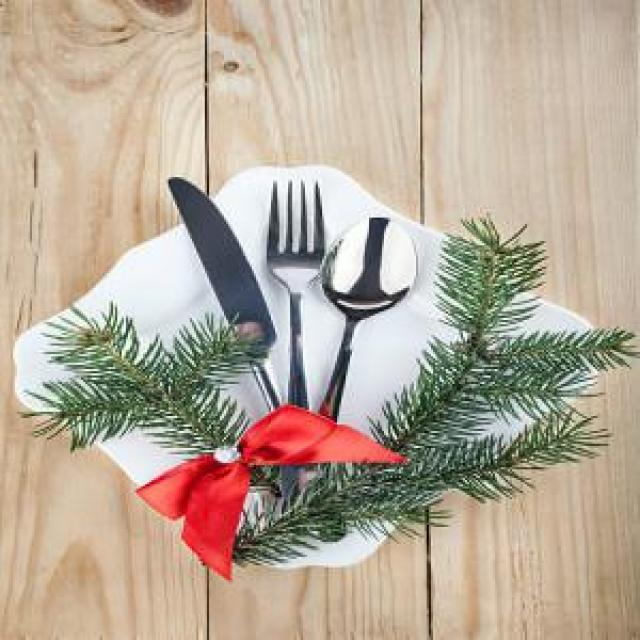knife: (143, 177, 309, 488)
